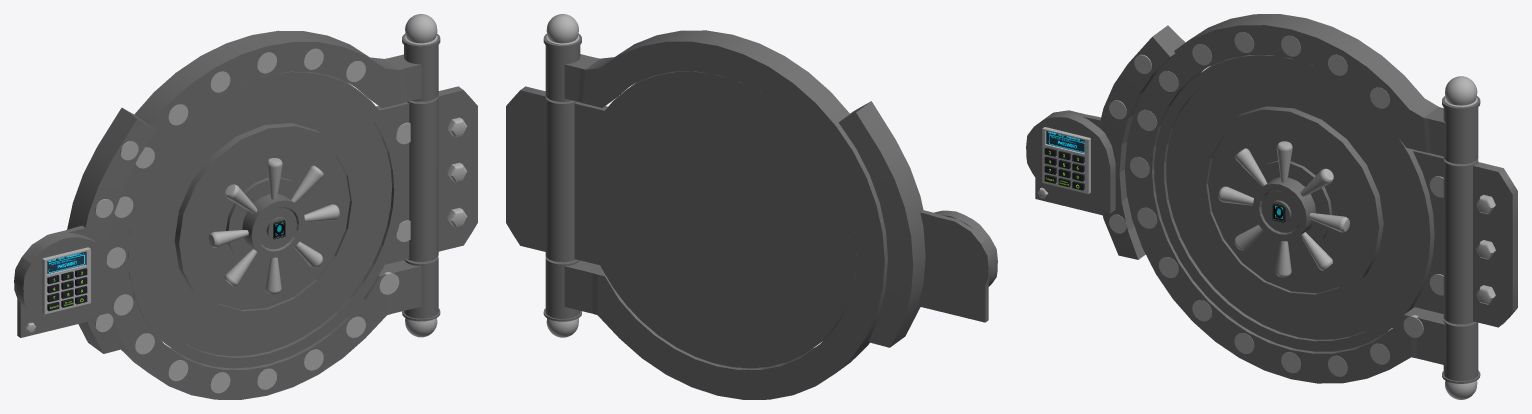
File: Loacker Door.fbx
The picture shows the model from 3 angles, left to right: view 1: azimuth 30°, elevation 25°; view 2: azimuth 150°, elevation 25°; view 3: azimuth 330°, elevation 25°; orthographic projection.
Parts seen in each view (by area): view 1: pCylinder6, pCylinder10, pCylinder5, Cebar, Pin_Side, pCylinder8, pCube1, Machin, pCylinder3, pCylinder4, pCylinder7, pCylinder9 (+10 smaller); view 2: pCylinder6, pCylinder10, Pin_Side, Cebar, pCube2, pCylinder8, pCylinder7, pCylinder9, Ball1, pCube1, Ball; view 3: pCylinder6, pCylinder10, pCylinder5, Cebar, Pin_Side, pCylinder8, pCube1, Machin, pCylinder3, pCylinder9, pCylinder7, pCylinder4 (+10 smaller).
Boxes of the visible parts, box(x1,y1,x2,y2) form: pCylinder6: box(128, 71, 403, 368); pCylinder10: box(107, 30, 421, 399); pCylinder5: box(174, 123, 357, 317); Cebar: box(376, 86, 477, 264); Pin_Side: box(67, 108, 156, 353); pCylinder8: box(407, 96, 438, 261); pCube1: box(17, 233, 107, 323); Machin: box(42, 247, 90, 314); pCylinder3: box(242, 194, 305, 257); pCylinder4: box(226, 177, 309, 266); pCylinder7: box(402, 34, 440, 101); pCylinder9: box(402, 256, 440, 321); pCylinder6: box(580, 71, 856, 368); pCylinder10: box(564, 30, 887, 399); Pin_Side: box(838, 101, 925, 347); Cebar: box(506, 86, 607, 264); pCube2: box(918, 210, 991, 322); pCylinder8: box(545, 96, 577, 262); pCylinder7: box(543, 34, 581, 101); pCylinder9: box(543, 256, 581, 321); Ball1: box(546, 14, 579, 45); pCube1: box(934, 210, 997, 286); Ball: box(546, 318, 578, 337); pCylinder6: box(1154, 55, 1434, 351); pCylinder10: box(1124, 14, 1446, 383); pCylinder5: box(1200, 106, 1383, 301); Cebar: box(1413, 150, 1517, 327); Pin_Side: box(1100, 25, 1185, 259); pCylinder8: box(1443, 158, 1478, 324); pCube1: box(1026, 112, 1115, 213); Machin: box(1042, 127, 1090, 193); pCylinder3: box(1253, 177, 1315, 241); pCylinder9: box(1442, 319, 1480, 383); pCylinder7: box(1442, 96, 1480, 164); pCylinder4: box(1248, 160, 1332, 249).
Bounding box in the file's own units: 43.64 × 31 × 5.07.
4 materials, 2 textured.
